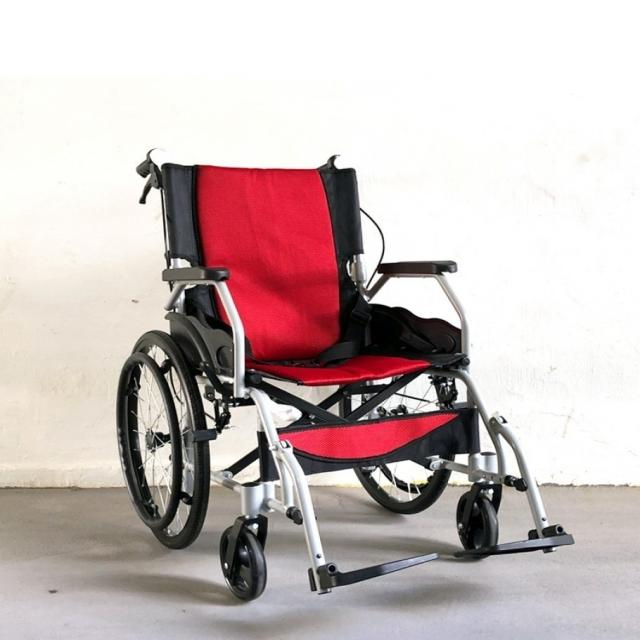wheelchair: (102, 119, 598, 614)
